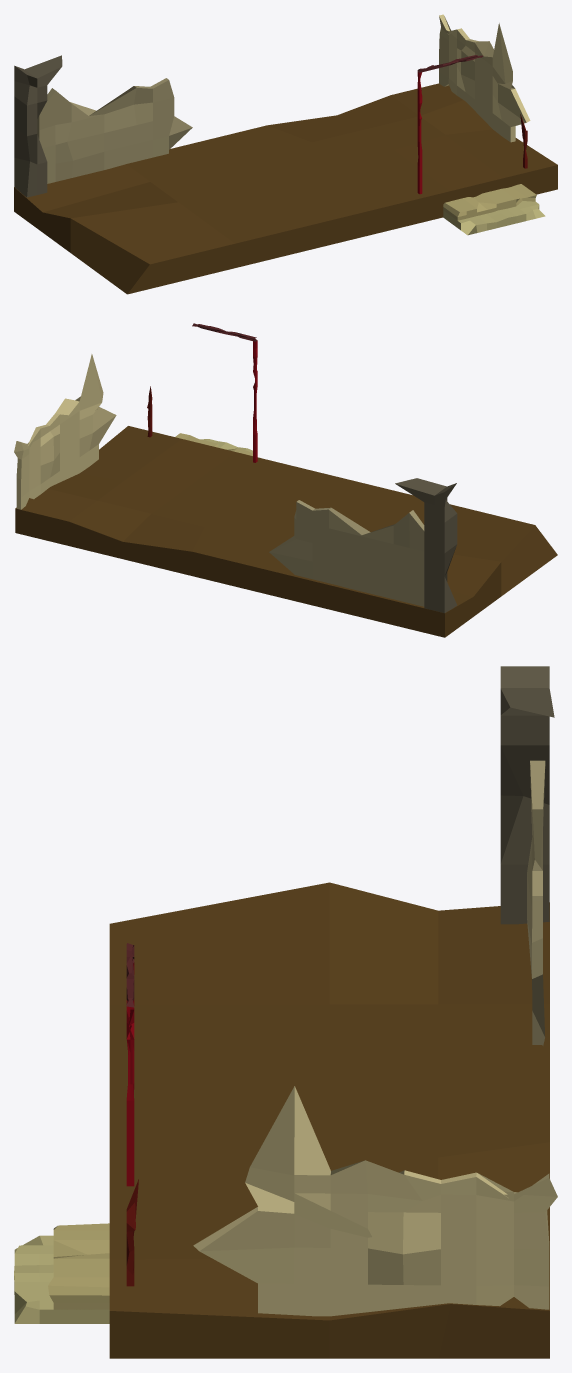
File: House 2 Blender.fbx
3 views of the same model, one above another, from view 1: azimuth 30°, elevation 25°; view 2: azimuth 150°, elevation 25°; view 3: azimuth 270°, elevation 25° (orthographic). The views are drawn at different scales.
Visible parts, largest first — view 1: Cube; view 2: Cube; view 3: Cube.
Part boxes in pixels (x1,y1,x2,y2): Cube: (14, 14, 557, 294); Cube: (14, 323, 557, 637); Cube: (14, 666, 557, 1358).
Bounding box in the file's own units: 3205 × 1051 × 1790.
